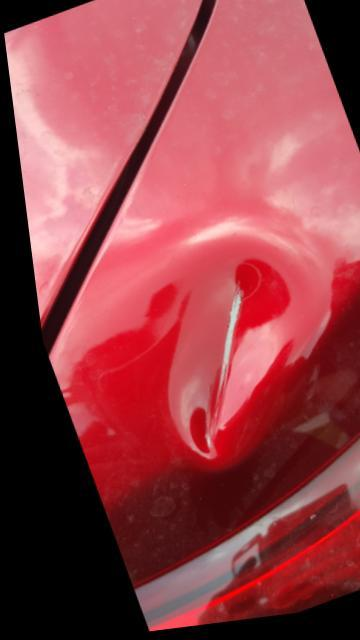dent: (160, 238, 318, 463)
